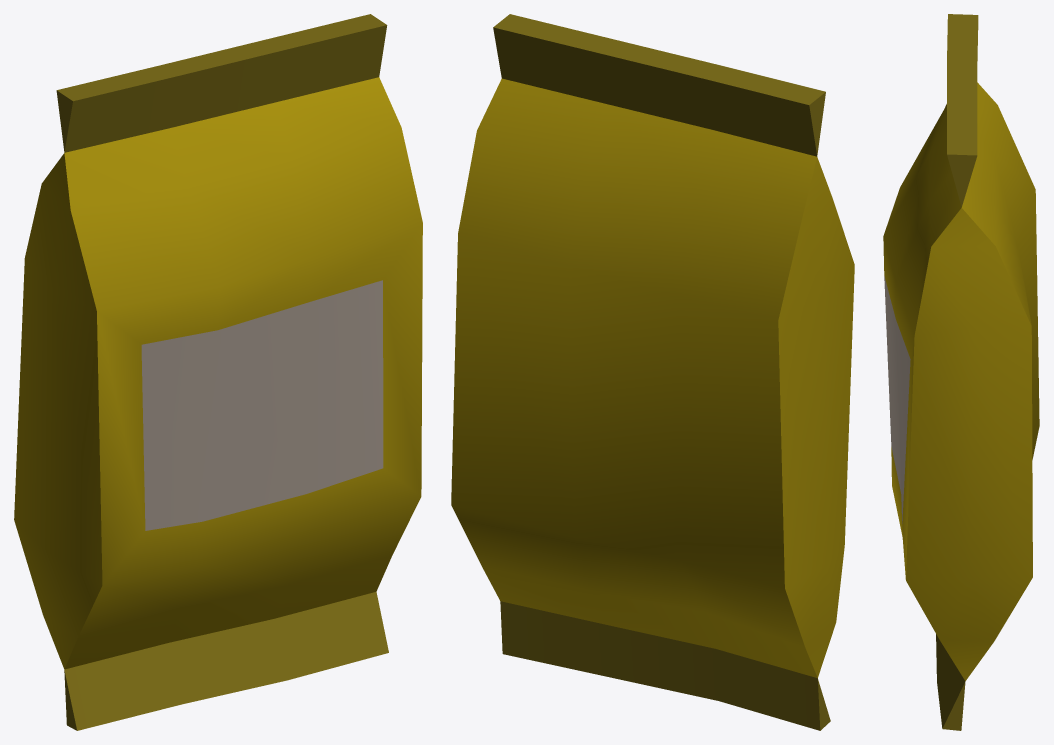
The model's file is bag_04.fbx.
3 renders of one model, left to right at view 1: azimuth 30°, elevation 25°; view 2: azimuth 150°, elevation 25°; view 3: azimuth 270°, elevation 25°, orthographic. The views are drawn at different scales.
Visible parts, largest first — view 1: bag_04; view 2: bag_04; view 3: bag_04.
Part boxes in pixels (<box>): bag_04: <box>14,14,422,730</box>; bag_04: <box>451,14,854,730</box>; bag_04: <box>883,14,1039,730</box>.
Bounding box in the file's own units: 32.7 × 56.08 × 13.75.
